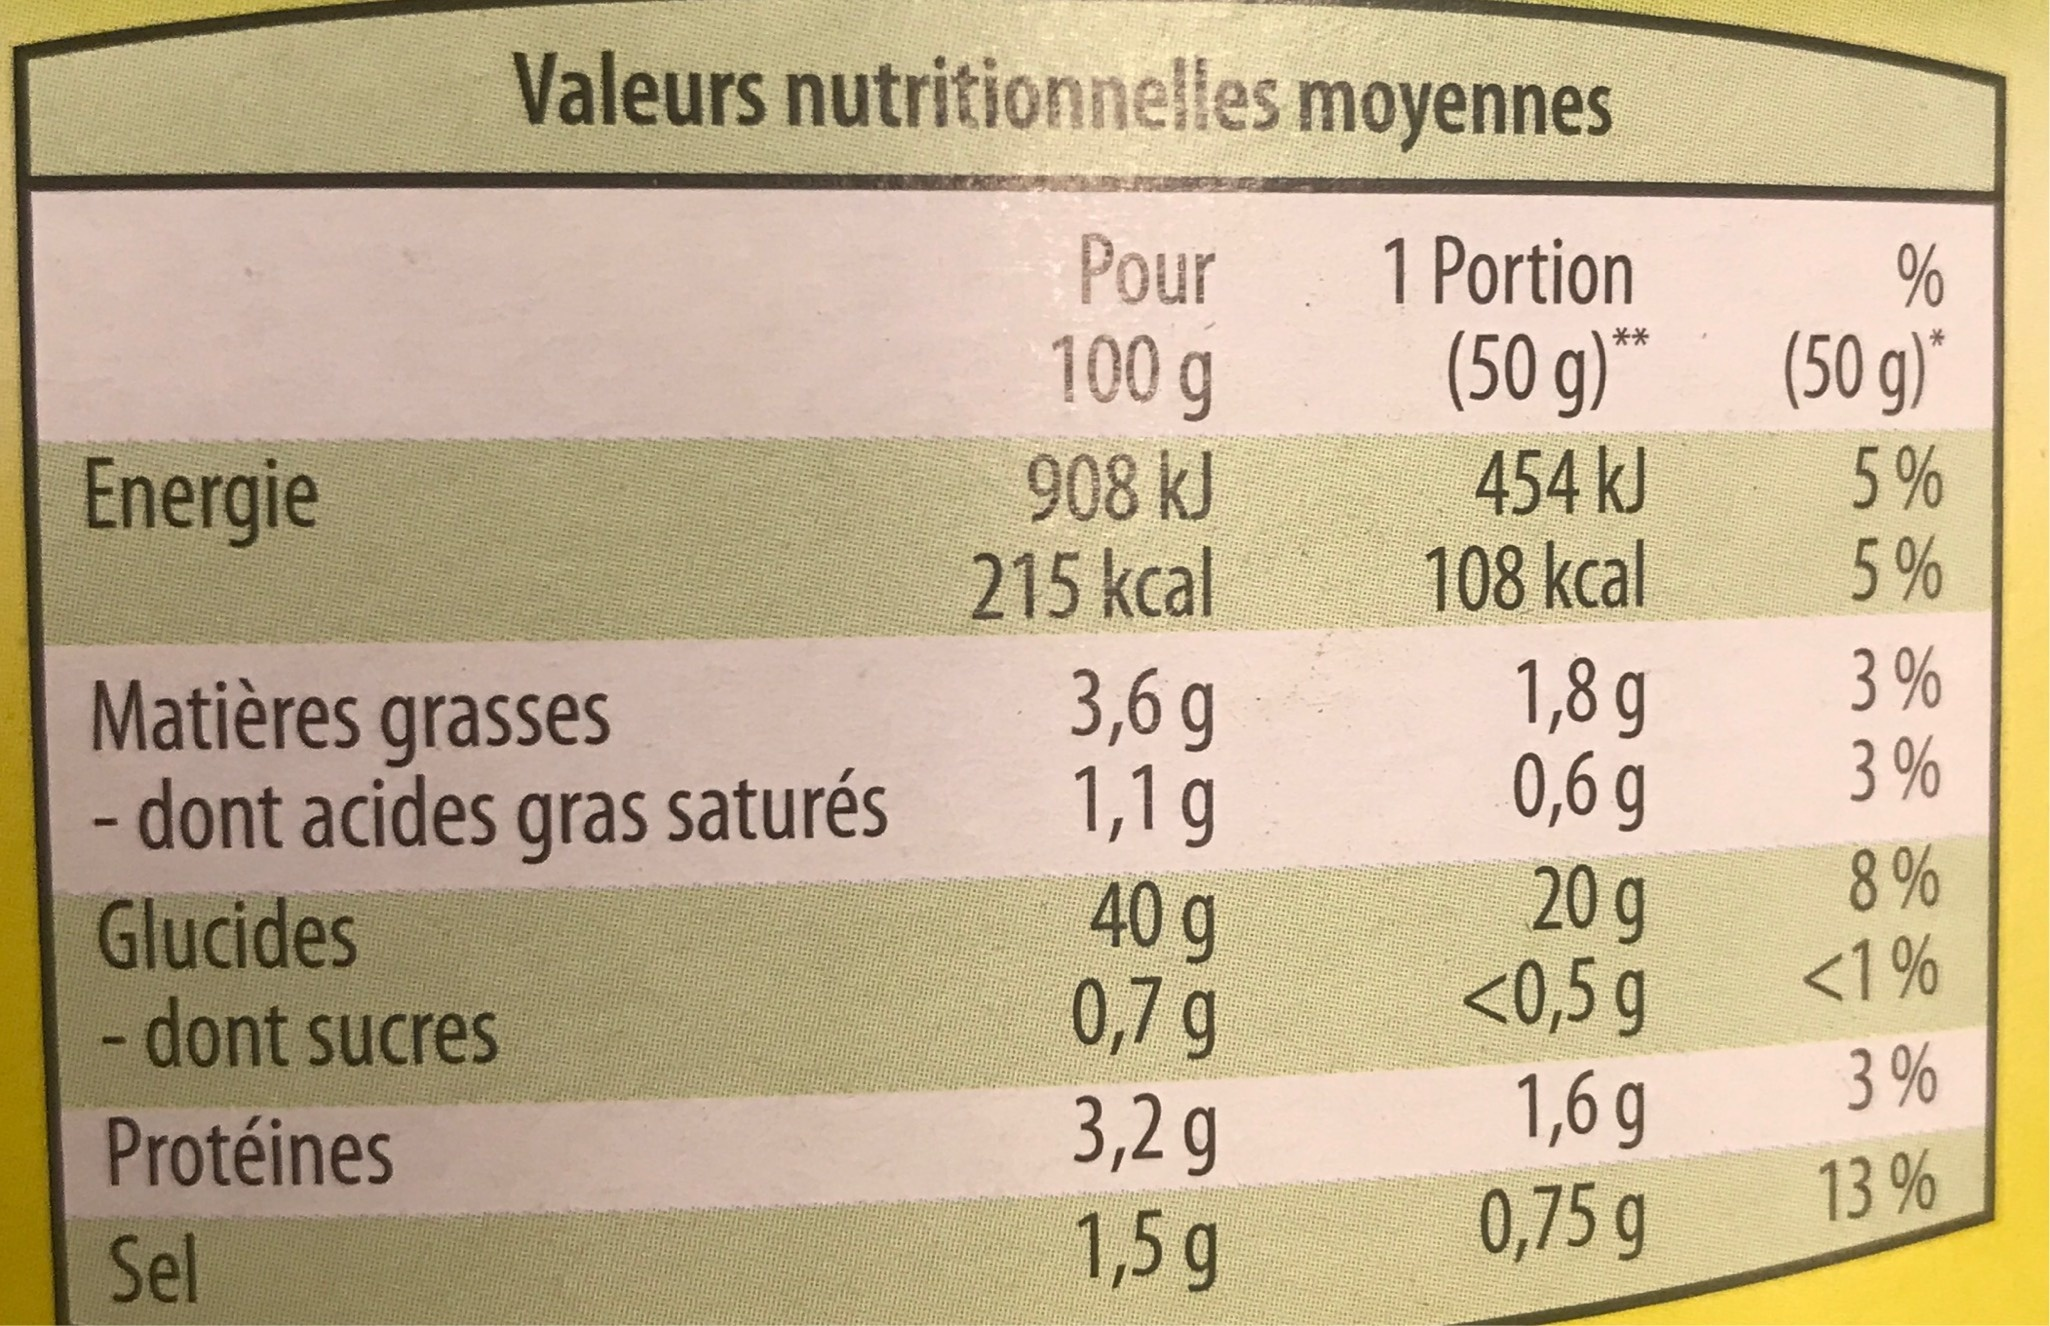column: (84, 454, 891, 1320), (1379, 185, 1659, 1326), (970, 232, 1222, 1298), (1783, 200, 1948, 1326)
table: (1, 1, 2046, 1322)
